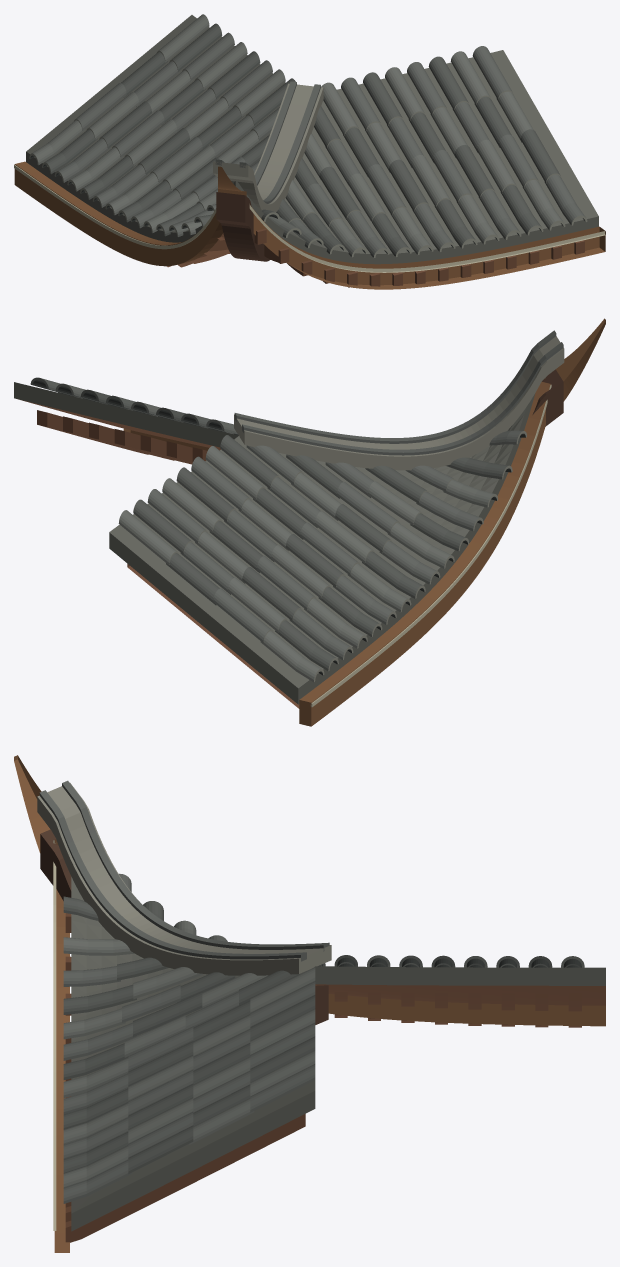
Rendered from changning-hongqiaoyuan-east-upturned-eave-corner-raw.glb.
The picture shows the model from 3 angles, top to bottom: view 1: azimuth 30°, elevation 25°; view 2: azimuth 150°, elevation 25°; view 3: azimuth 270°, elevation 25°; orthographic projection. The views are drawn at different scales.
Visible parts, largest first — view 1: 虹桥源一号东楼歇山顶翘角与瓦垄; view 2: 虹桥源一号东楼歇山顶翘角与瓦垄; view 3: 虹桥源一号东楼歇山顶翘角与瓦垄.
Part boxes in pixels (bbox=[...]): 虹桥源一号东楼歇山顶翘角与瓦垄: bbox=[14, 14, 605, 289]; 虹桥源一号东楼歇山顶翘角与瓦垄: bbox=[14, 318, 605, 726]; 虹桥源一号东楼歇山顶翘角与瓦垄: bbox=[14, 755, 605, 1252].
Size of the model in its own units: 2.16 by 1 by 2.16.
